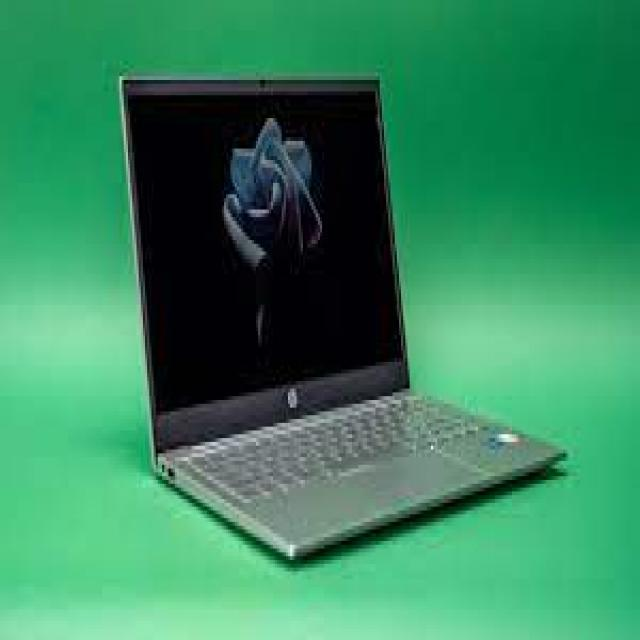others: (102, 54, 574, 552)
